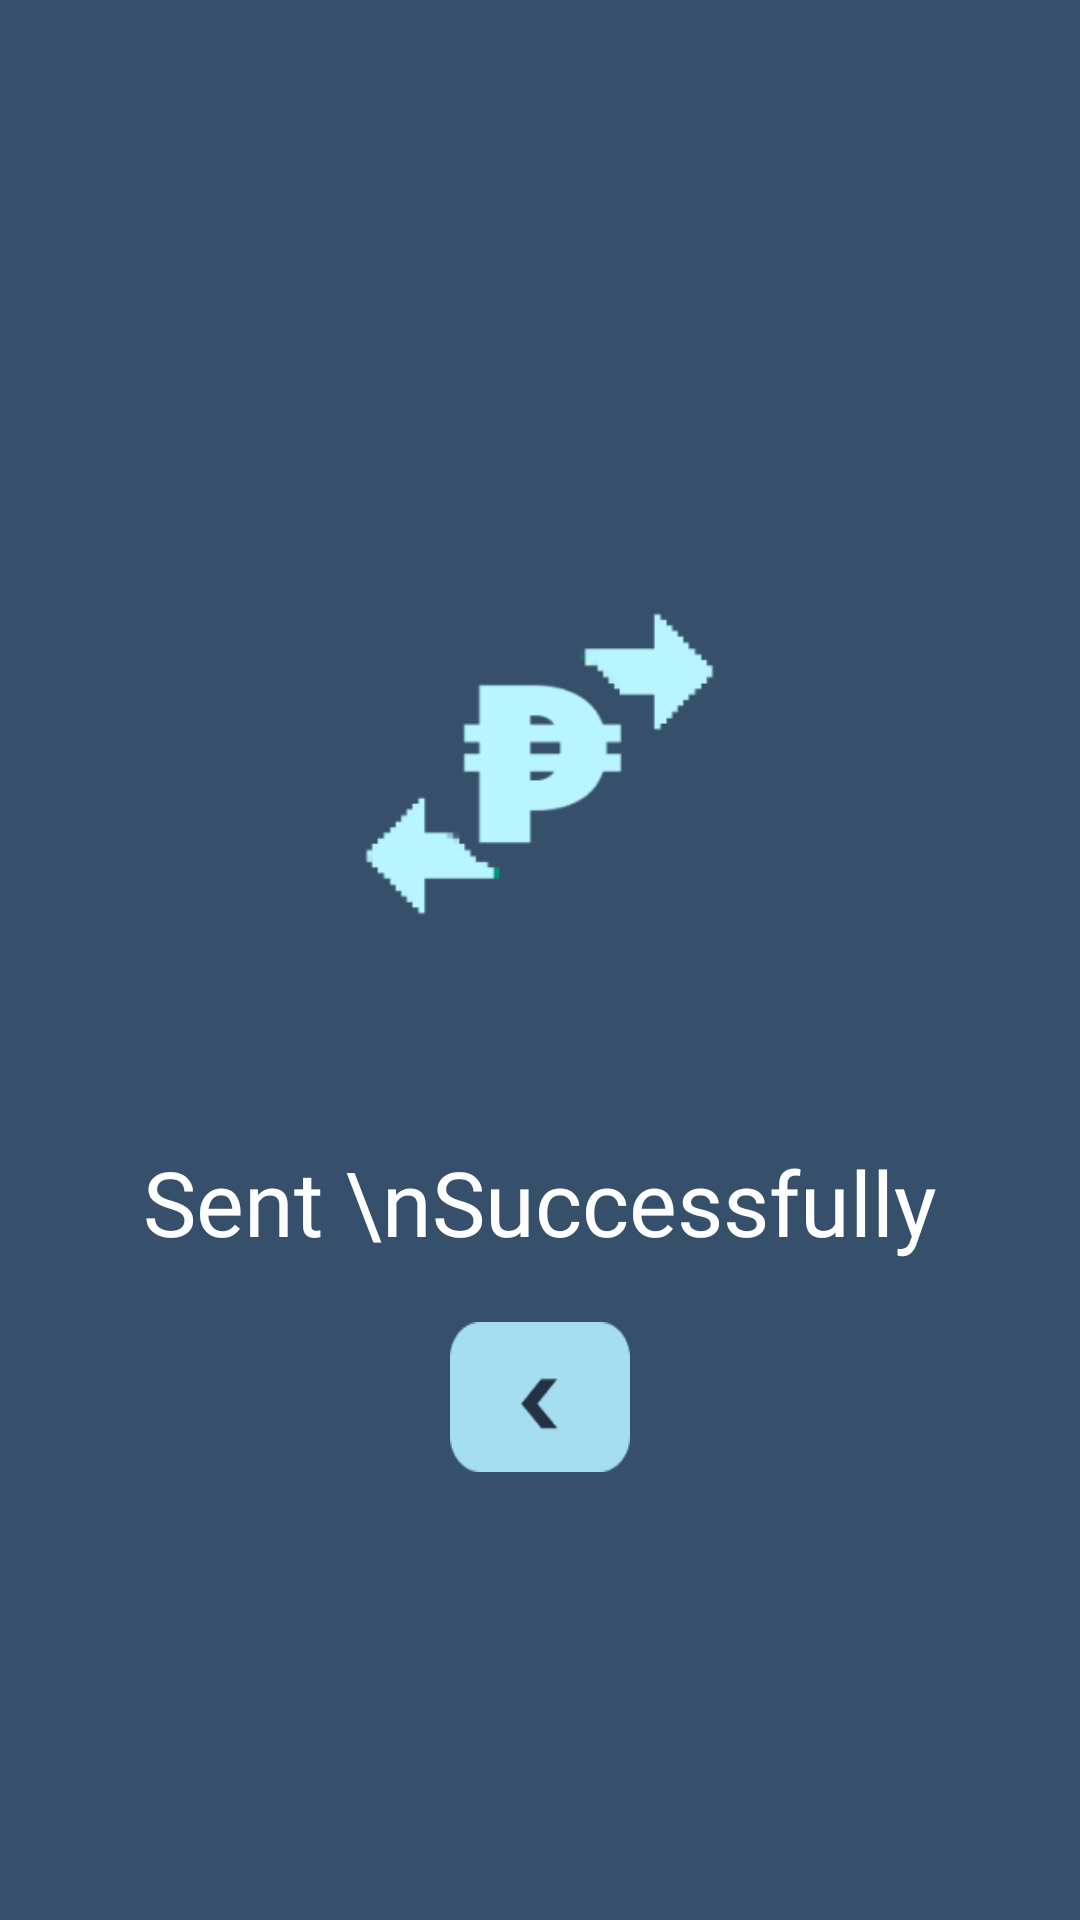

Icons on this 1080px×1920px Android screen, each with its box as bbox(x1, y1, x2, y2):
backicon: bbox(450, 1322, 630, 1472)
